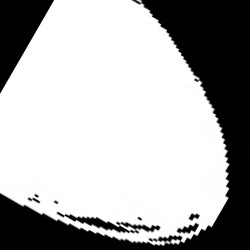spot: (1, 3, 229, 243)
